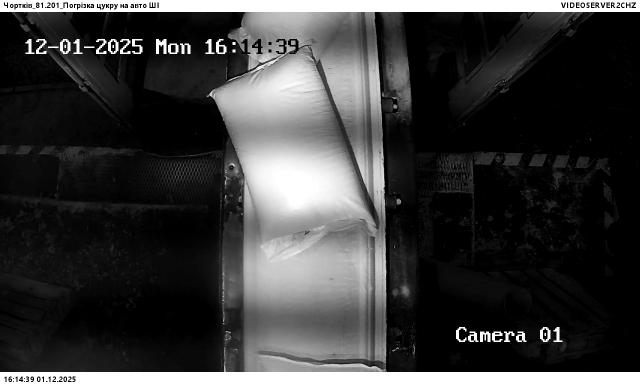bag: (208, 43, 378, 262), (228, 12, 351, 73)
